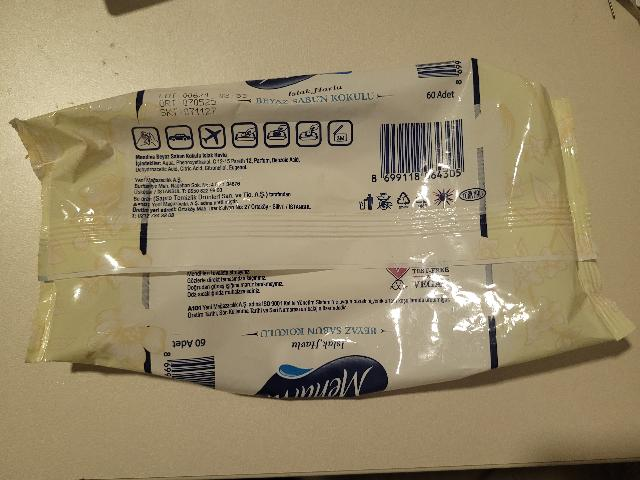Plastik: (10, 55, 630, 398)
